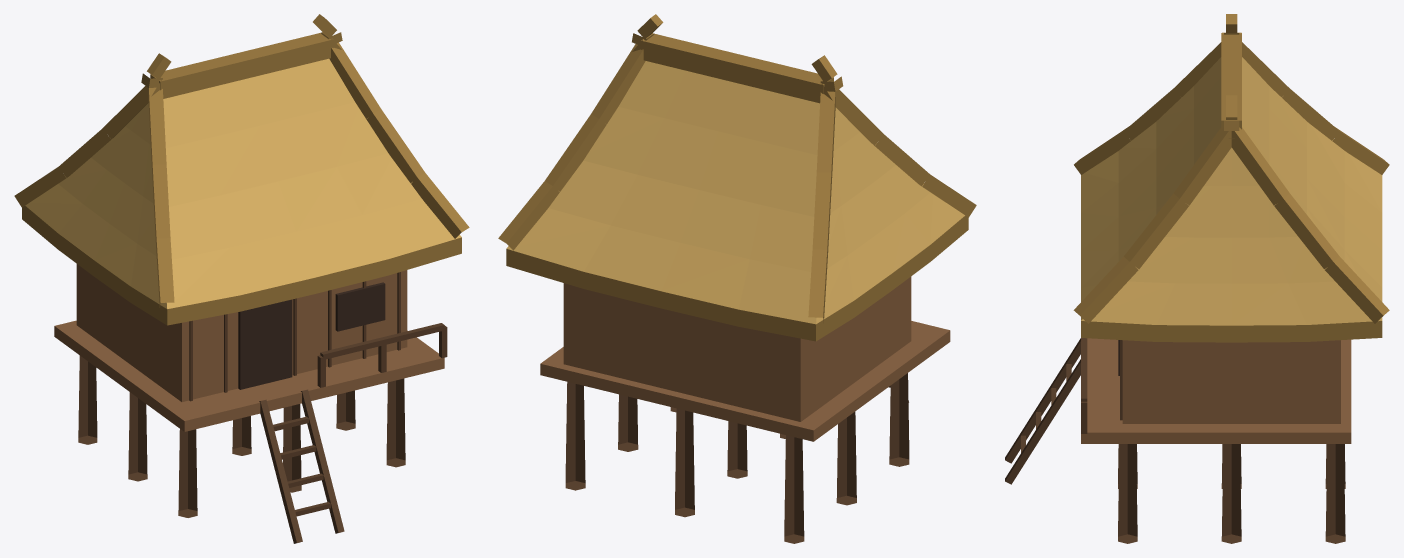
File: viet_house_stilt.glb
3 renders of one model, left to right at view 1: azimuth 30°, elevation 25°; view 2: azimuth 150°, elevation 25°; view 3: azimuth 270°, elevation 25°, orthographic. The views are drawn at different scales.
Visible parts, largest first — view 1: viet_house_stilt; view 2: viet_house_stilt; view 3: viet_house_stilt.
Boxes of the visible parts, bbox=[...] form: viet_house_stilt: bbox=[14, 14, 469, 543]; viet_house_stilt: bbox=[498, 14, 976, 543]; viet_house_stilt: bbox=[1005, 14, 1389, 543].
Size of the model in its own units: 0.7748 by 1 by 0.8044.
